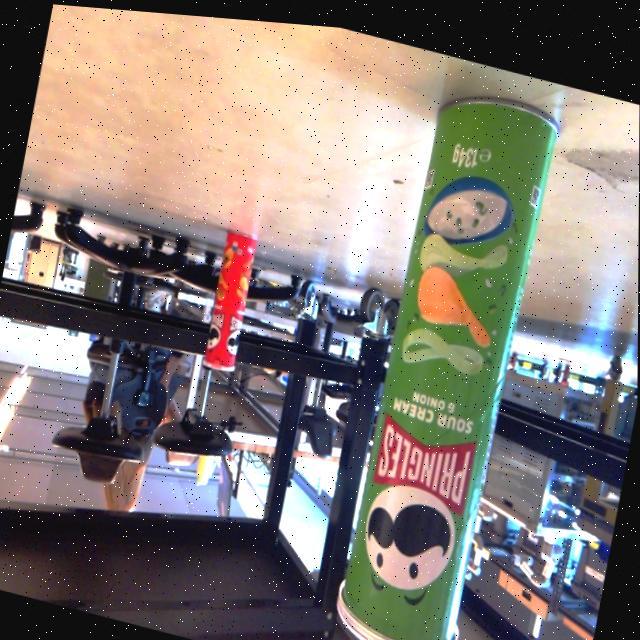greenpringles: (313, 54, 566, 640)
redpringles: (189, 209, 269, 381)
